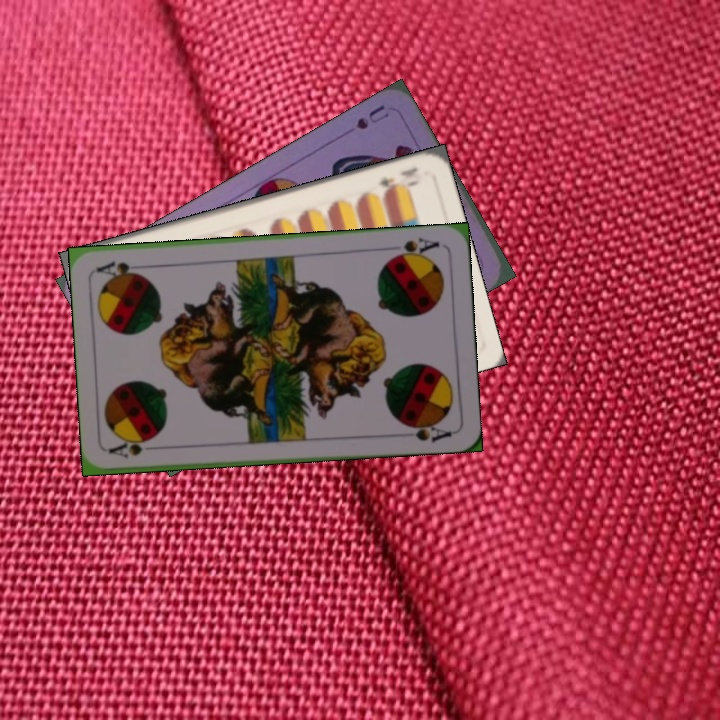E10: (373, 163, 421, 196)
SA: (385, 234, 442, 262), (106, 436, 154, 461)
SU: (352, 100, 392, 133)
